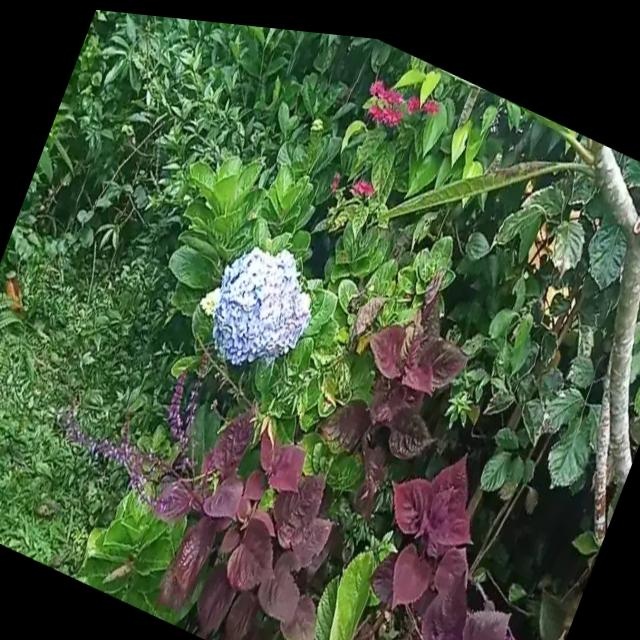Flower: (187, 214, 334, 404)
